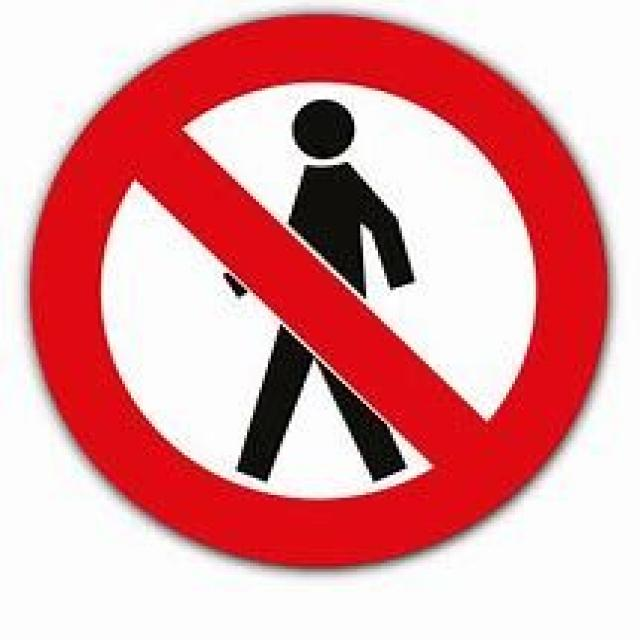PEDESTRIAN_PROHIBITED: (21, 11, 607, 569)
